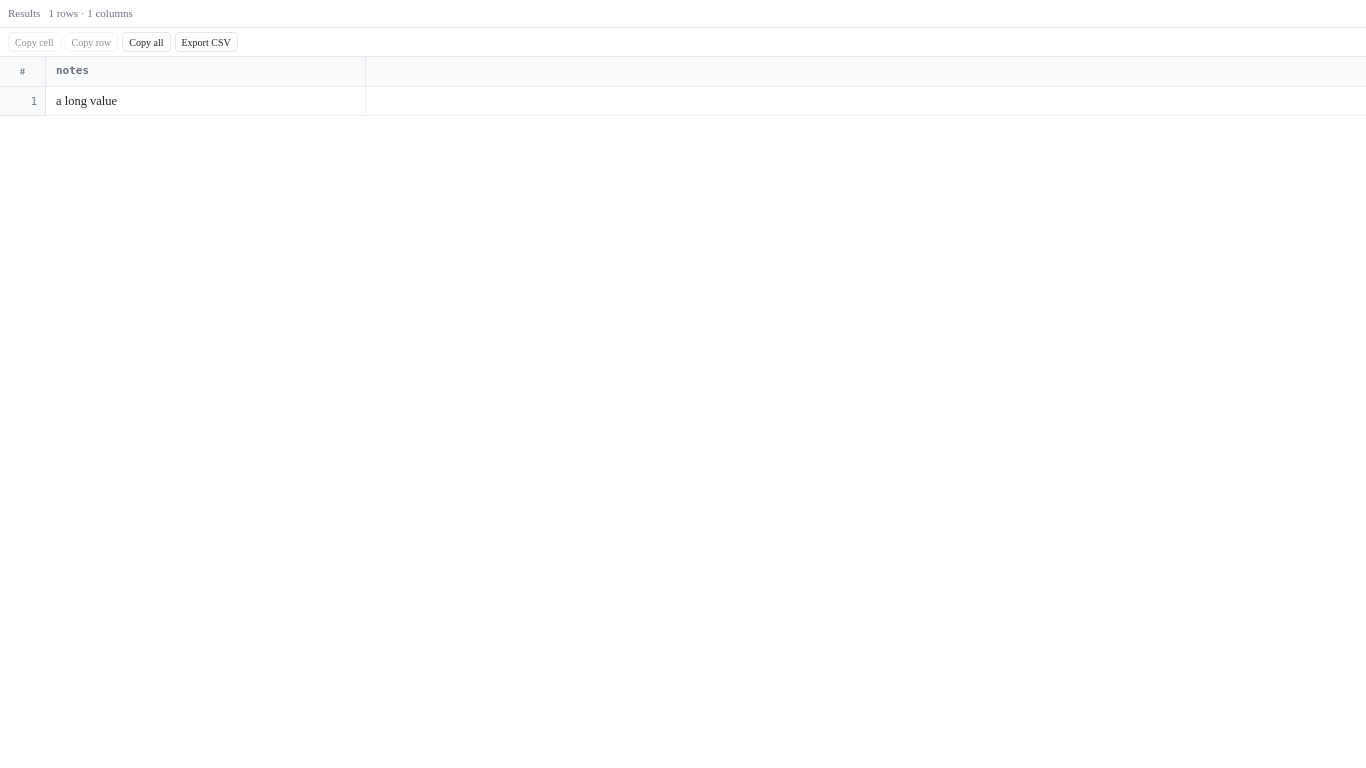
ResultsPanel › opens the value viewer for the selected cell
Click the text "a long value".
click(87, 101)  # box [56,94,117,108]
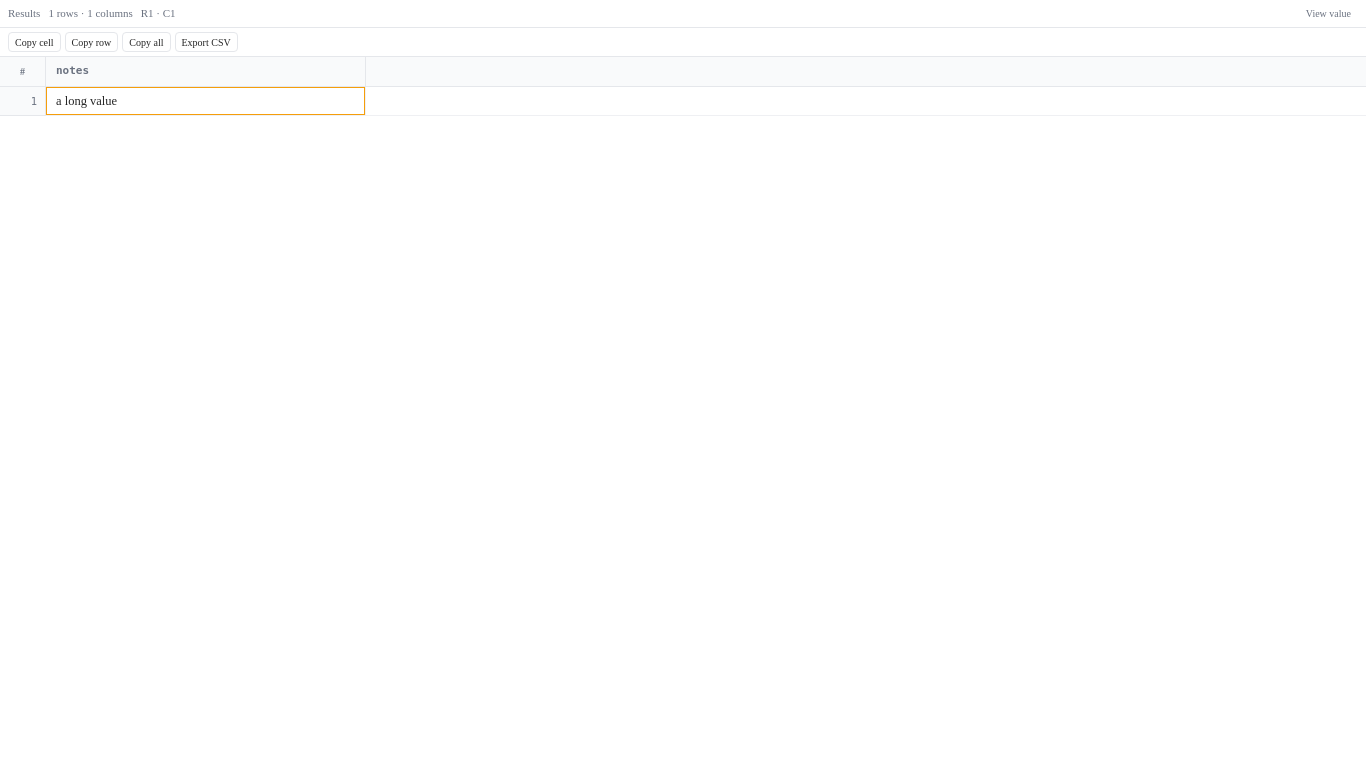
Click the button "View value".
click(1328, 14)  # box [1299,4,1358,24]
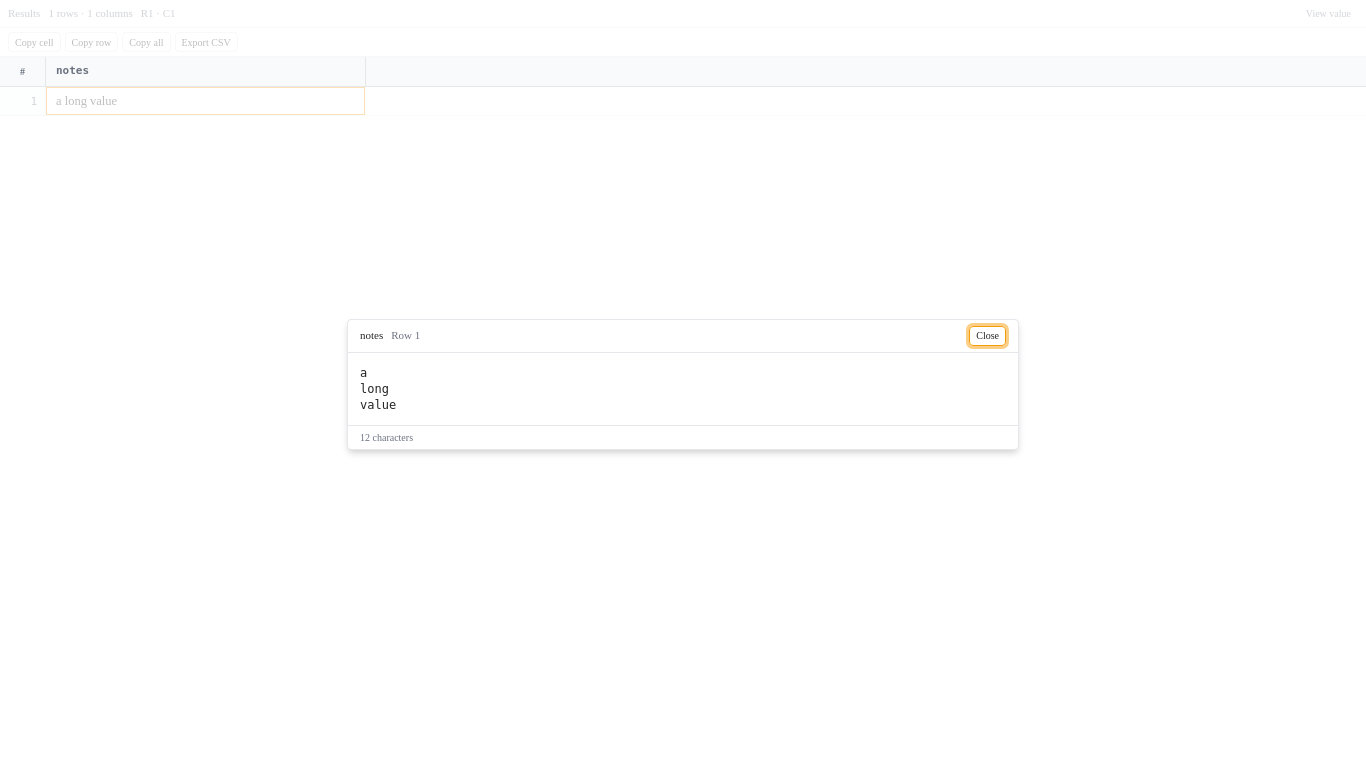
Click the button with aria-label "Close value viewer".
click(988, 336)  # box [969,326,1006,346]
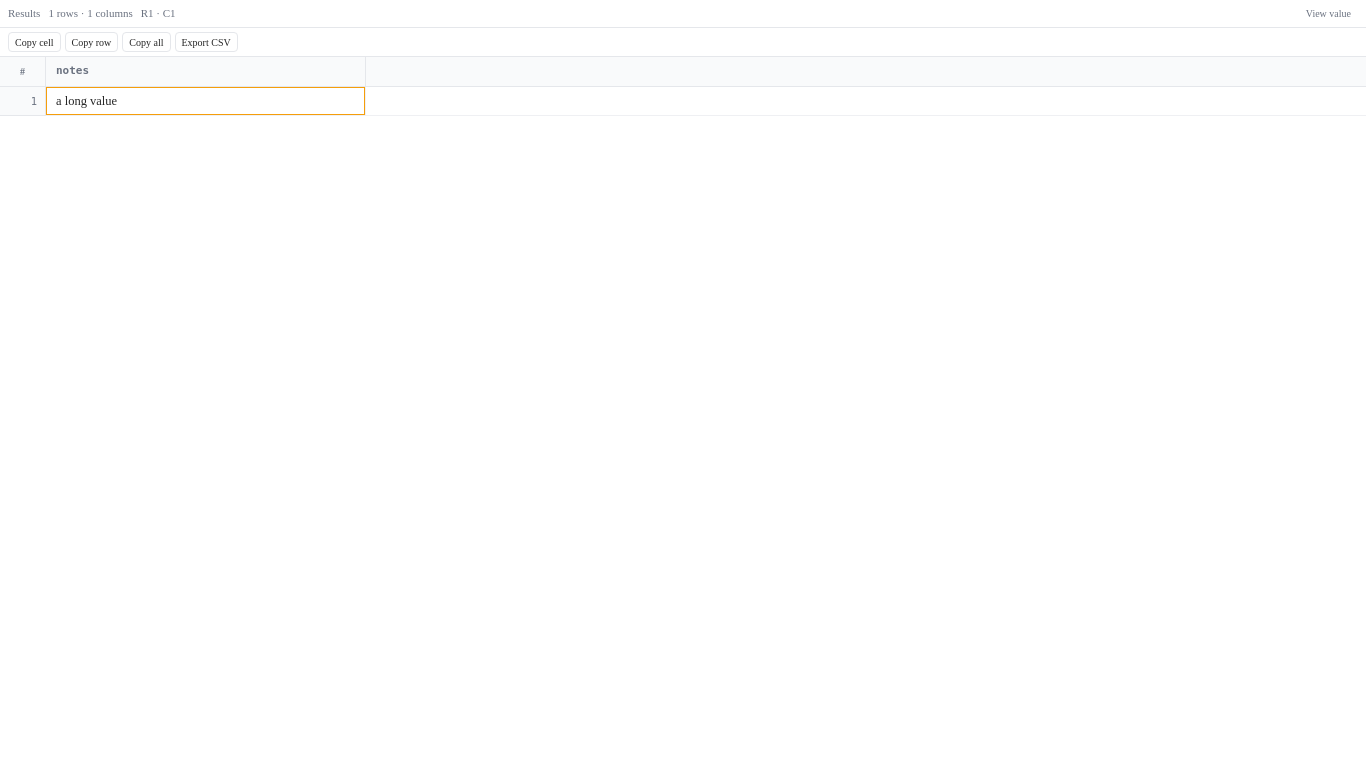
Check: the dialog is gone
